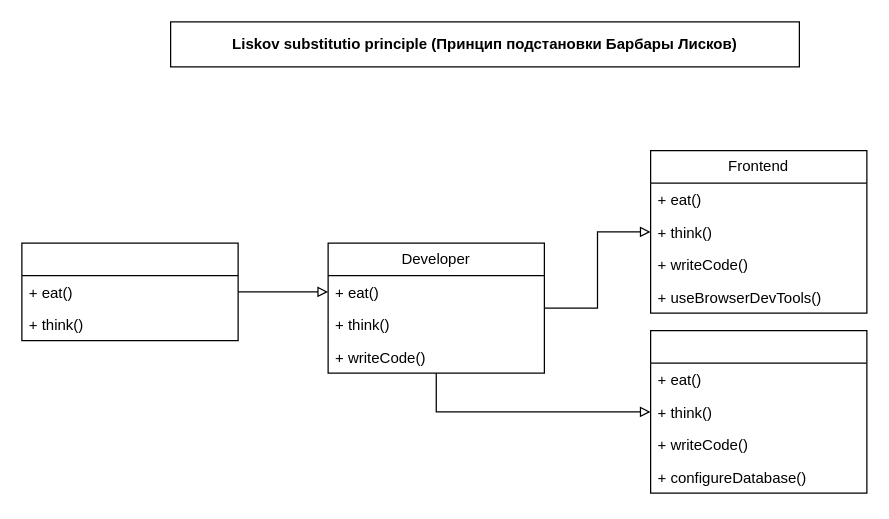
The diagram is 889 pixels wide and 519 high, and some of its shapes have lost their labels. The shapes that lost their labels are listed below. From the top down, each one's box as (x1, y1, x2, y2) in pixels, then its label:
(21, 242, 238, 341): Person
(649, 329, 867, 493): Backend
